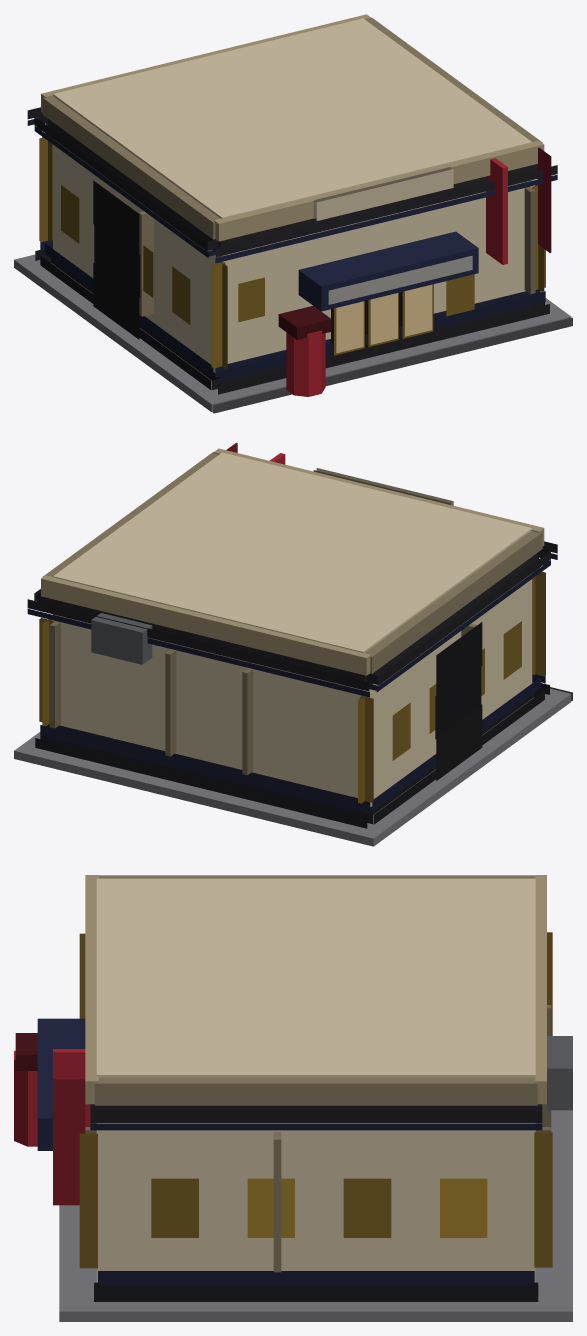
Rendered from RunawayTicketSil.fbx.
3 views of the same model, one above another, from view 1: azimuth 30°, elevation 25°; view 2: azimuth 150°, elevation 25°; view 3: azimuth 270°, elevation 25° (orthographic). The views are drawn at different scales.
Parts seen in each view (by area): view 1: CN_S_All; view 2: CN_S_All; view 3: CN_S_All.
Part boxes in pixels (bbox=[...]): CN_S_All: bbox=[14, 14, 572, 413]; CN_S_All: bbox=[14, 442, 572, 846]; CN_S_All: bbox=[14, 875, 572, 1321].
Size of the model in its own units: 42.04 by 19.9 by 43.59.
